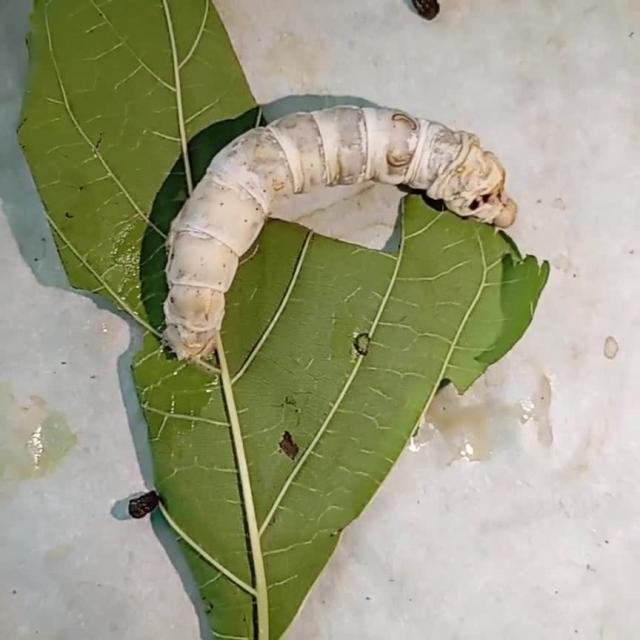Grasserie: (146, 71, 532, 386)
